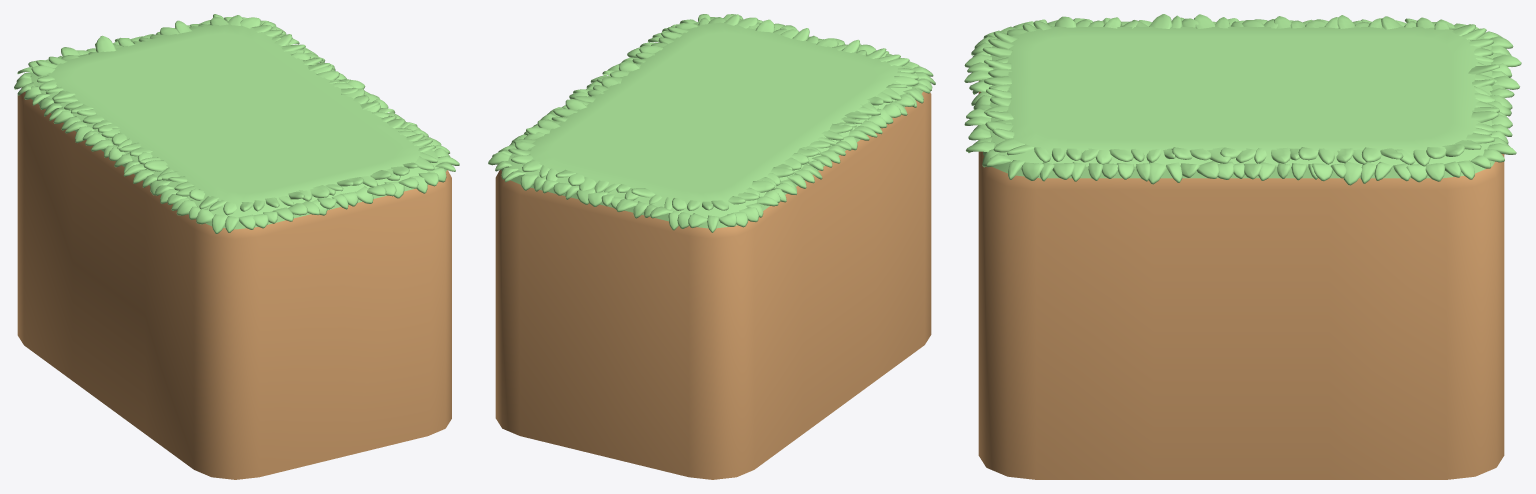
Rendered from Cliffs_3x2.fbx.
The picture shows the model from 3 angles, left to right: view 1: azimuth 30°, elevation 25°; view 2: azimuth 150°, elevation 25°; view 3: azimuth 270°, elevation 25°; orthographic projection. The views are drawn at different scales.
Visible parts, largest first — view 1: 3x2_Cliff, 3x2_Blades; view 2: 3x2_Cliff, 3x2_Blades; view 3: 3x2_Cliff, 3x2_Blades.
Boxes of the visible parts, x1,y1,x2,y2 form: 3x2_Cliff: (17, 24, 451, 479); 3x2_Blades: (14, 14, 459, 233); 3x2_Cliff: (495, 21, 931, 479); 3x2_Blades: (488, 14, 935, 232); 3x2_Cliff: (978, 26, 1504, 479); 3x2_Blades: (964, 14, 1521, 185).
Size of the model in its own units: 216 by 205 by 318.
